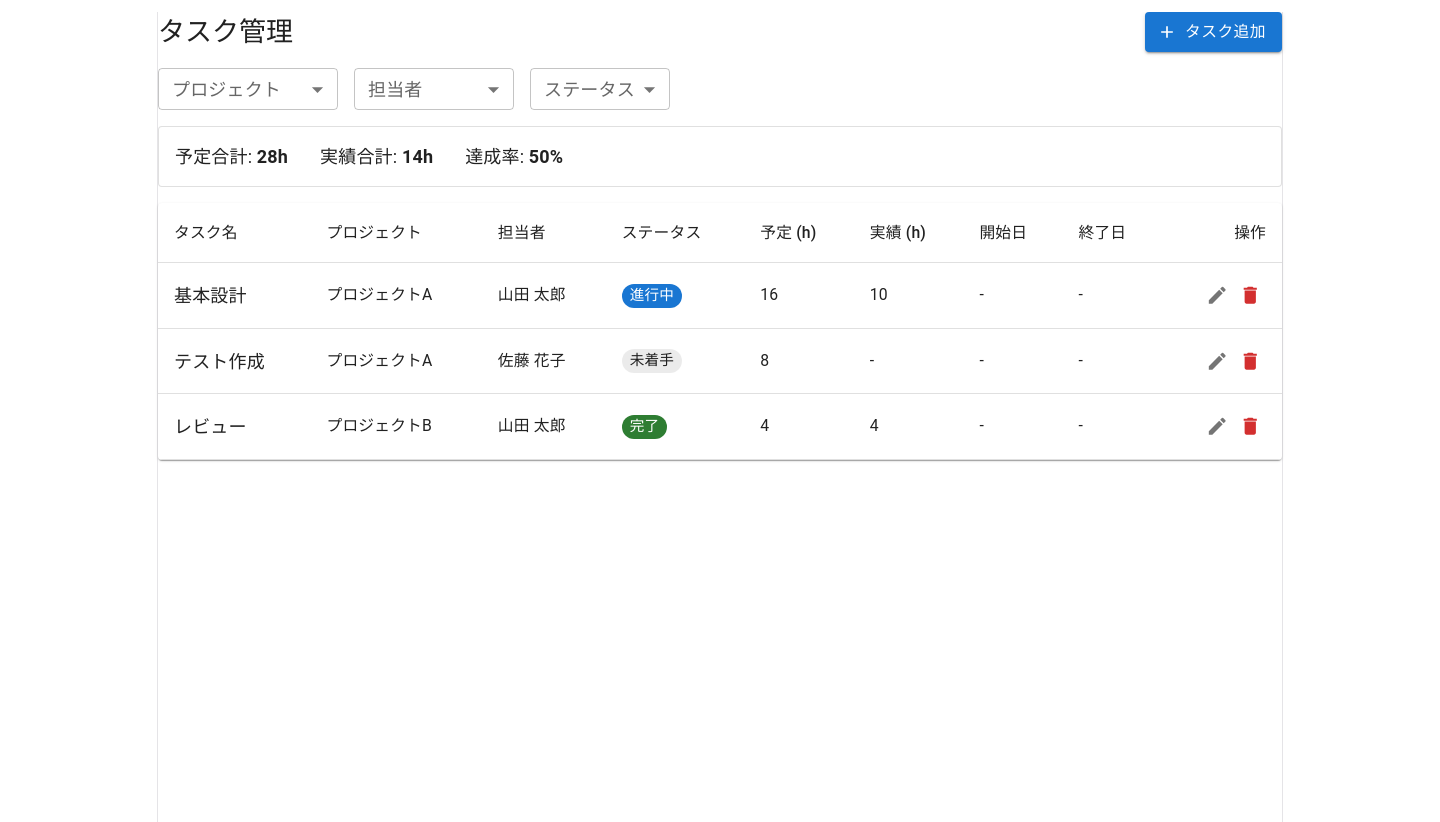
Test case: TasksPage › プロジェクトフィルタで絞り込みができる
The image size is (1440, 822).
expect the text "基本設計" is shown: met, box [174,285,247,306]
// プロジェクトBを選択
What coordinates should you click on to do the following:
click the dropdown named "プロジェクト"
I would click on:
 (248, 89)
Its box is [158,68,338,110].
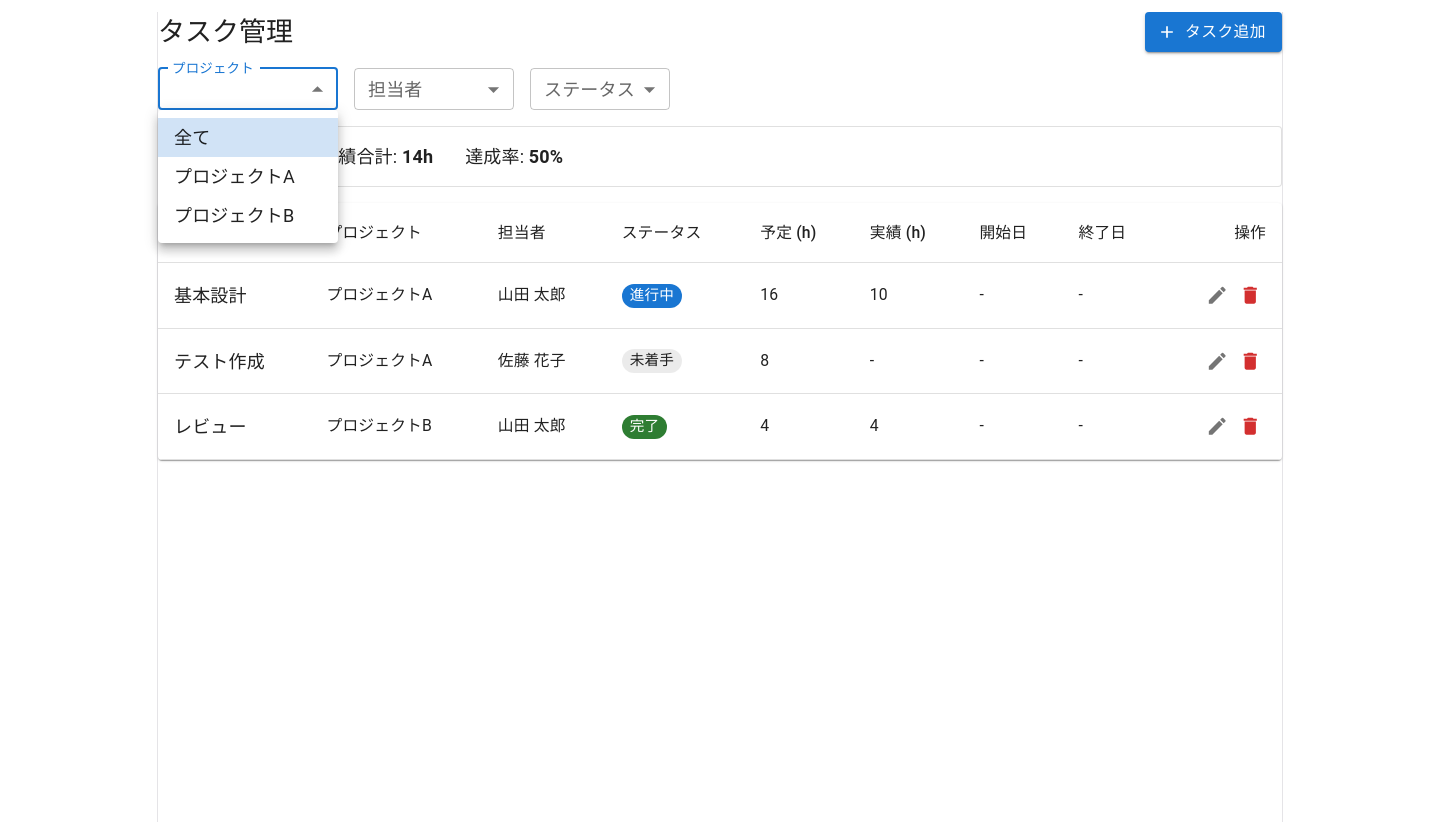
What coordinates should you click on to do the following:
click the option "プロジェクトB"
I would click on:
 (234, 216)
Its box is [174,205,294,226].
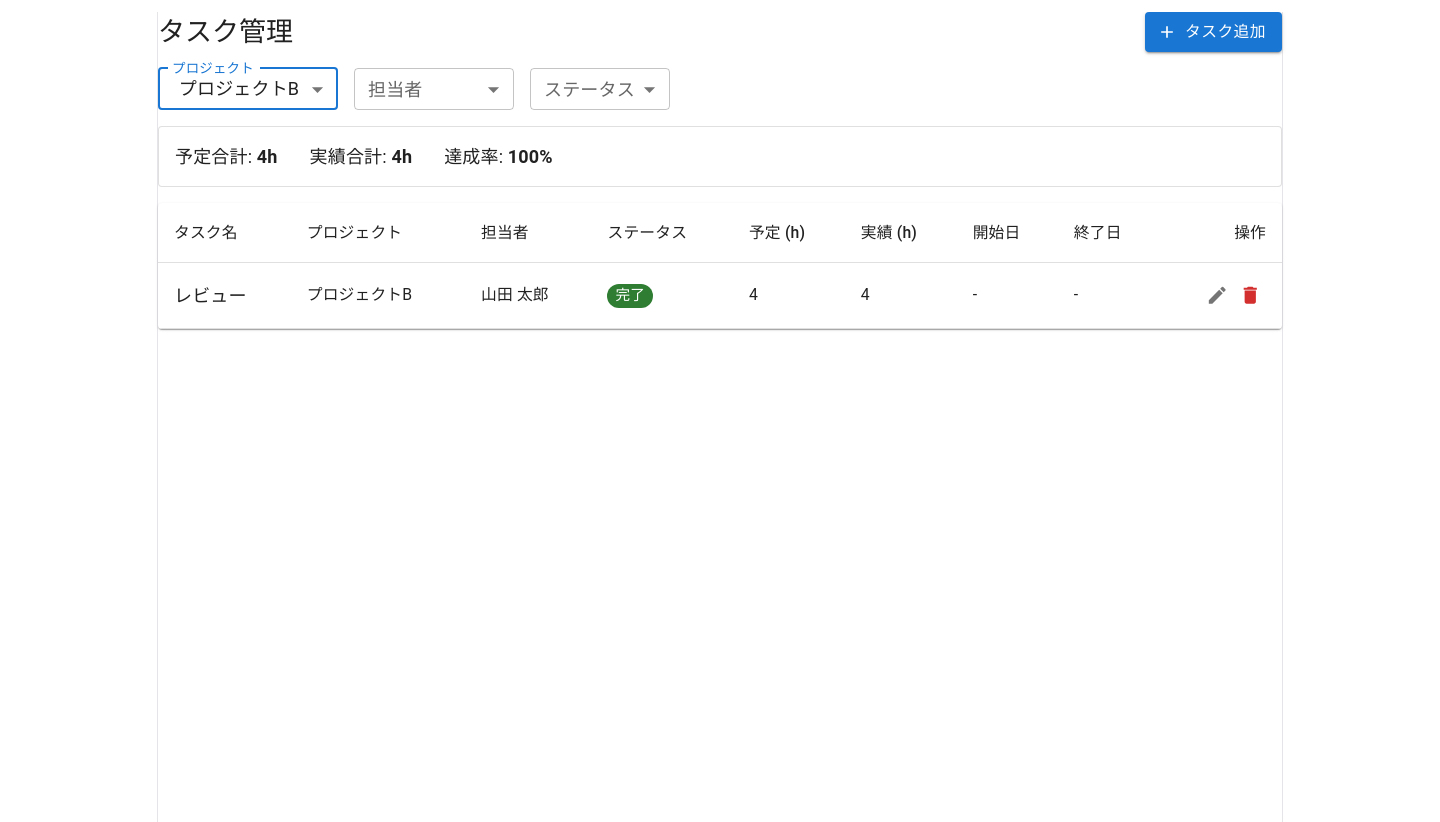
expect the text "レビュー" is shown: met, box [174,285,247,306]
expect the text "基本設計" is gone: met
expect the text "テスト作成" is gone: met
